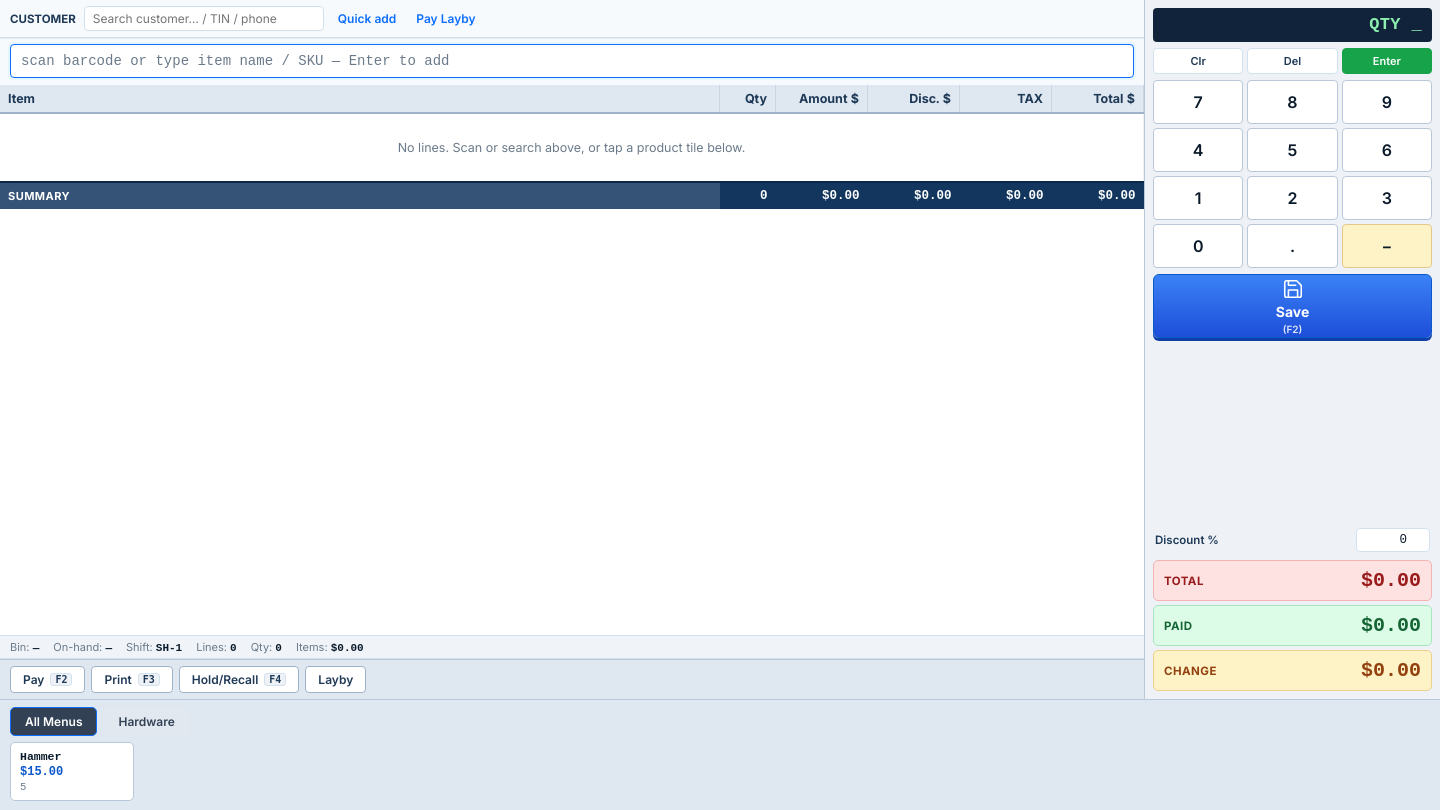
it: DesktopPOSTerminal › completes a cash sale charging the tax-inclusive total
The width and height of the screenshot is (1440, 810).
Click the button "Hammer $15.00 5" at (72, 772), box [10,742,134,801]
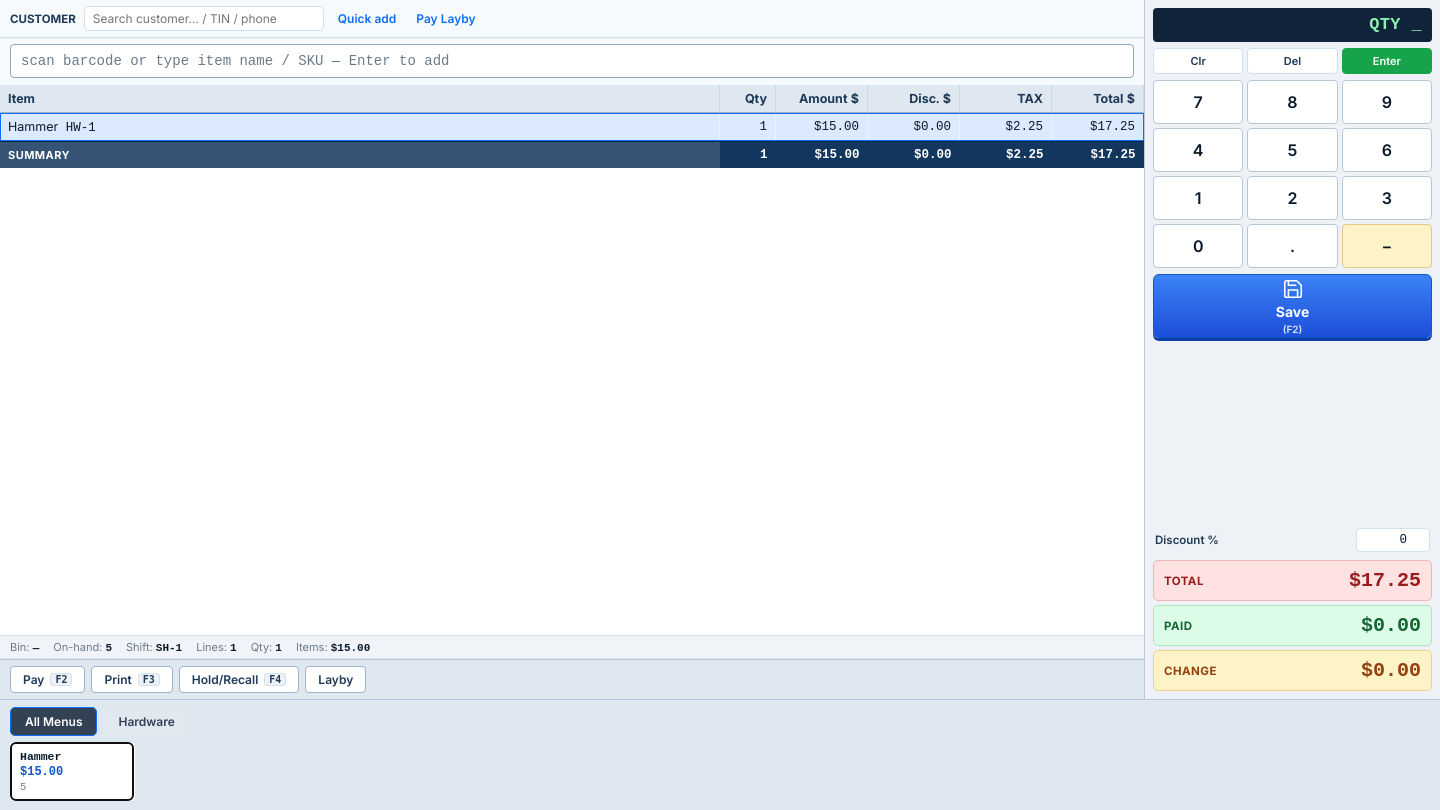
Expected: the text "$17.25" in the row of "HW-1" is shown, [1090,120,1135,134]
Click the button "Pay F2" at (48, 680), box [10,666,86,693]
(page scrolled)
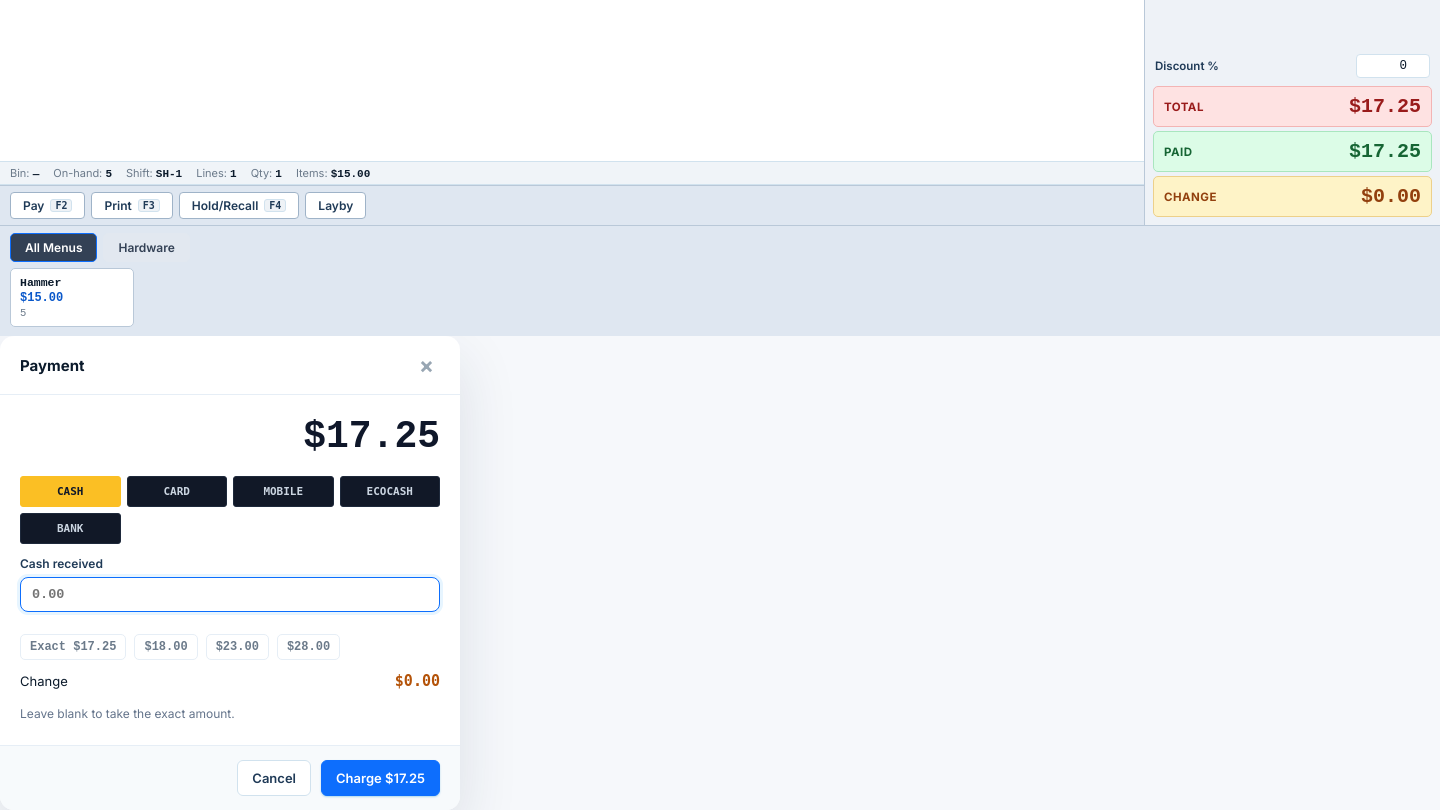
Expected: the text "Cash received" is shown, [20,556,103,571]
Click the button "Charge $17.25" at (380, 778), box [321,760,440,796]
(page scrolled)
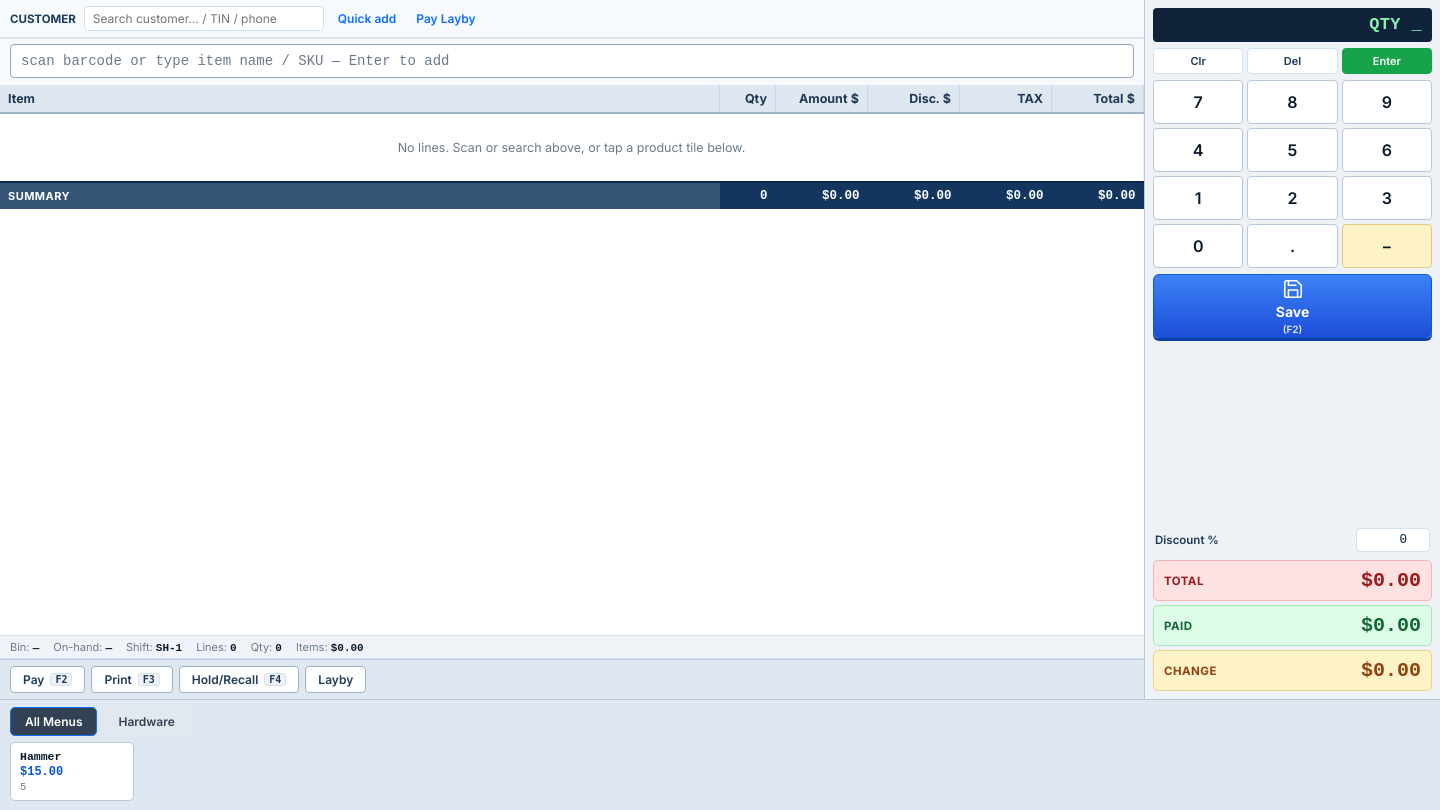
Expected: the 1st text "$0.00" is shown, [776,182,868,209]
